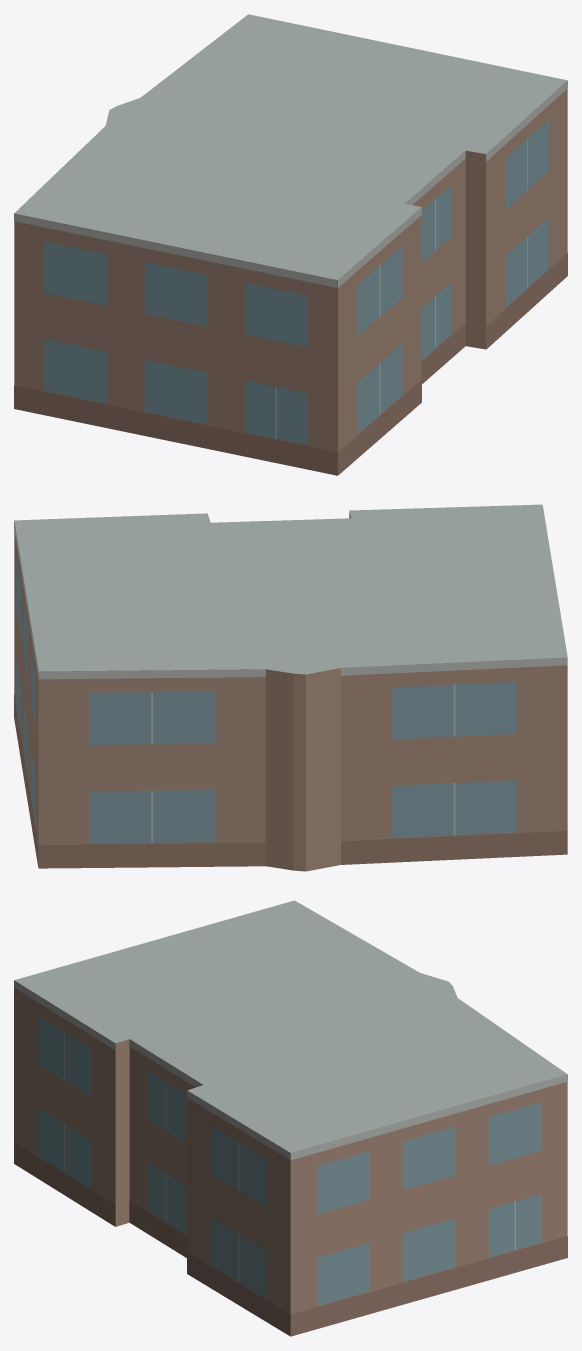
File: survey-upis-32625084.glb
3 renders of one model, top to bottom at view 1: azimuth 30°, elevation 25°; view 2: azimuth 150°, elevation 25°; view 3: azimuth 270°, elevation 25°, orthographic. The views are drawn at different scales.
Parts seen in each view (by area): view 1: survey-upis-32625084.tmp; view 2: survey-upis-32625084.tmp; view 3: survey-upis-32625084.tmp.
Part boxes in pixels (x1,y1,x2,y2): survey-upis-32625084.tmp: [14, 14, 567, 475]; survey-upis-32625084.tmp: [14, 504, 567, 871]; survey-upis-32625084.tmp: [14, 900, 567, 1336].
Size of the model in its own units: 18.02 by 6.1 by 16.69.
